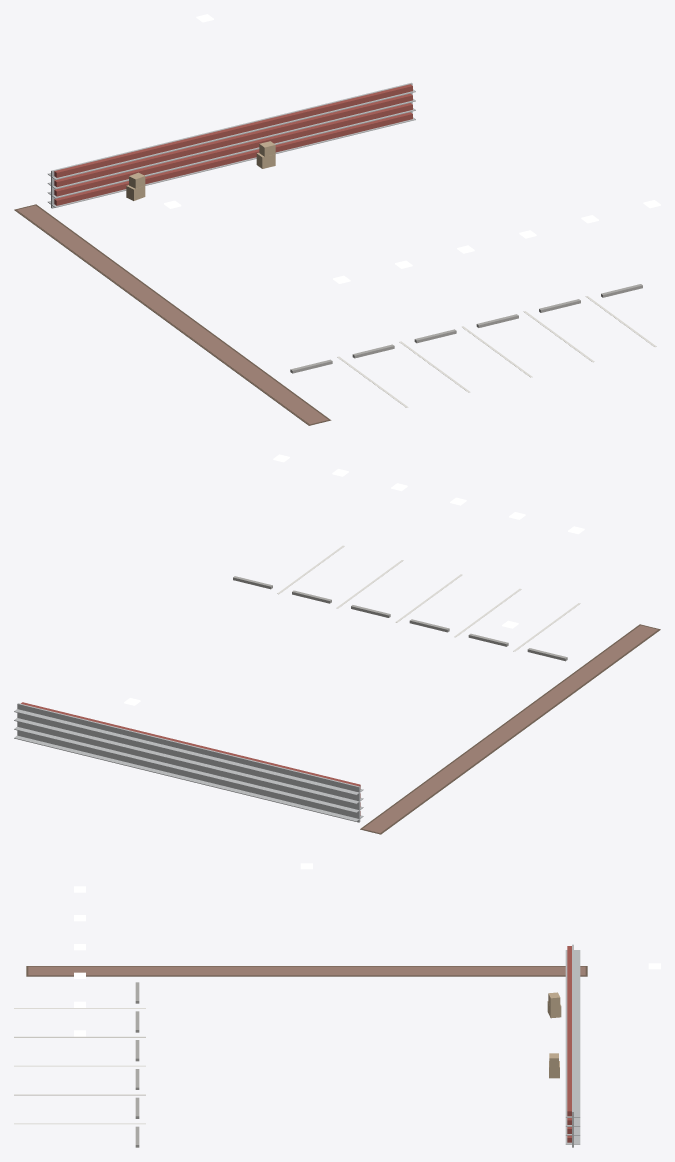
Rendered from fine-s0.glb.
3 views of the same model, one above another, from view 1: azimuth 30°, elevation 25°; view 2: azimuth 150°, elevation 25°; view 3: azimuth 270°, elevation 25° (orthographic). The views are drawn at different scales.
Visible parts, largest first — view 1: soft-s0, shelving.000, shelving.008, shelving.007, shelving.009, shelving.003, shelving.004, shelving.001, shelving.006, shelving.005, shelving.002; view 2: soft-s0, shelving.000, shelving.008, shelving.003, shelving.001, shelving.009, shelving.004, shelving.006, shelving.002, shelving.005, shelving.007; view 3: soft-s0, shelving.009.
Part boxes in pixels (x1,y1,x2,y2): soft-s0: (14,204,656,425); shelving.000: (47,161,95,208); shelving.008: (336,91,380,138); shelving.007: (301,100,344,146); shelving.009: (372,82,415,128); shelving.003: (159,135,201,180); shelving.004: (194,126,237,172); shelving.001: (87,152,131,198); shelving.006: (268,109,308,153); shelving.005: (232,117,273,163); shelving.002: (123,143,166,189); soft-s0: (233,545,660,834); shelving.000: (318,776,363,822); shelving.008: (47,710,89,755); shelving.003: (216,751,258,796); shelving.001: (284,768,326,812); shelving.009: (14,702,55,746); shelving.004: (183,743,224,788); shelving.006: (115,727,157,771); shelving.002: (250,760,292,805); shelving.005: (149,735,190,779); shelving.007: (81,718,123,763); soft-s0: (14,966,587,1147); shelving.009: (565,1094,580,1147).
Size of the model in its own units: 17.59 by 4.77 by 26.46.
